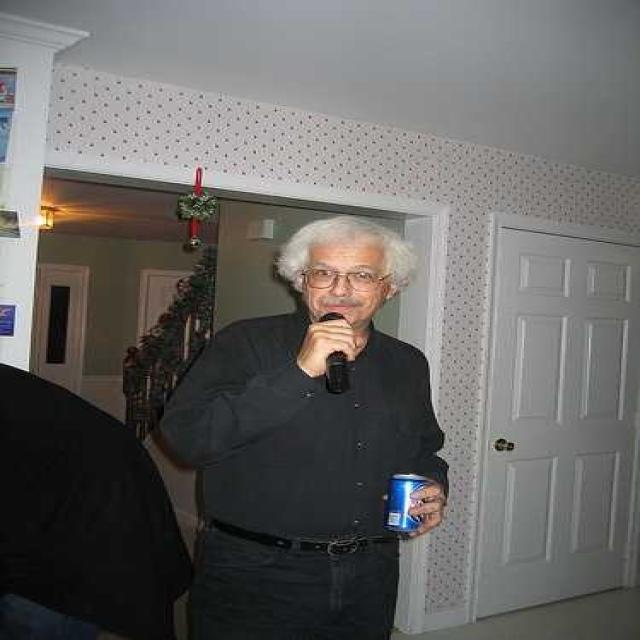microphone: (317, 312, 354, 394)
